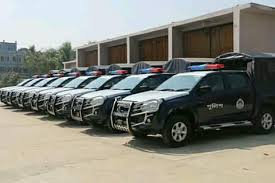policecar: (109, 51, 274, 148), (71, 56, 215, 143), (45, 59, 167, 119), (45, 63, 132, 122), (30, 64, 108, 112), (16, 67, 88, 109)
